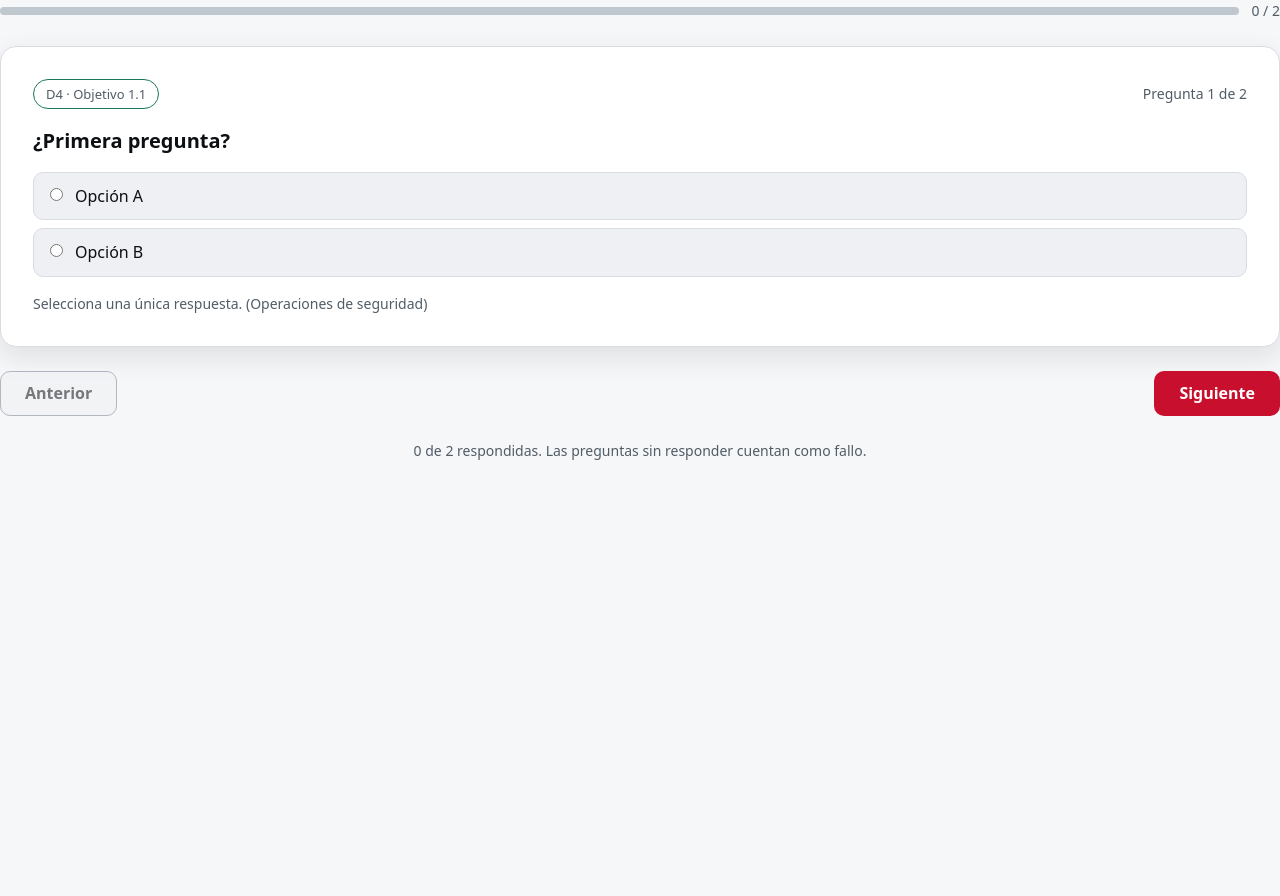
Scenario: DiagnosticPage › permite responder, finalizar y ver los resultados con la ruta
This screenshot has width=1280, height=896.
Expected: the text "¿Primera pregunta?" is shown, x1=33 y1=125 x2=230 y2=156
Click the radio button labelled "Opción A": click(56, 194) x1=50 y1=188 x2=63 y2=201
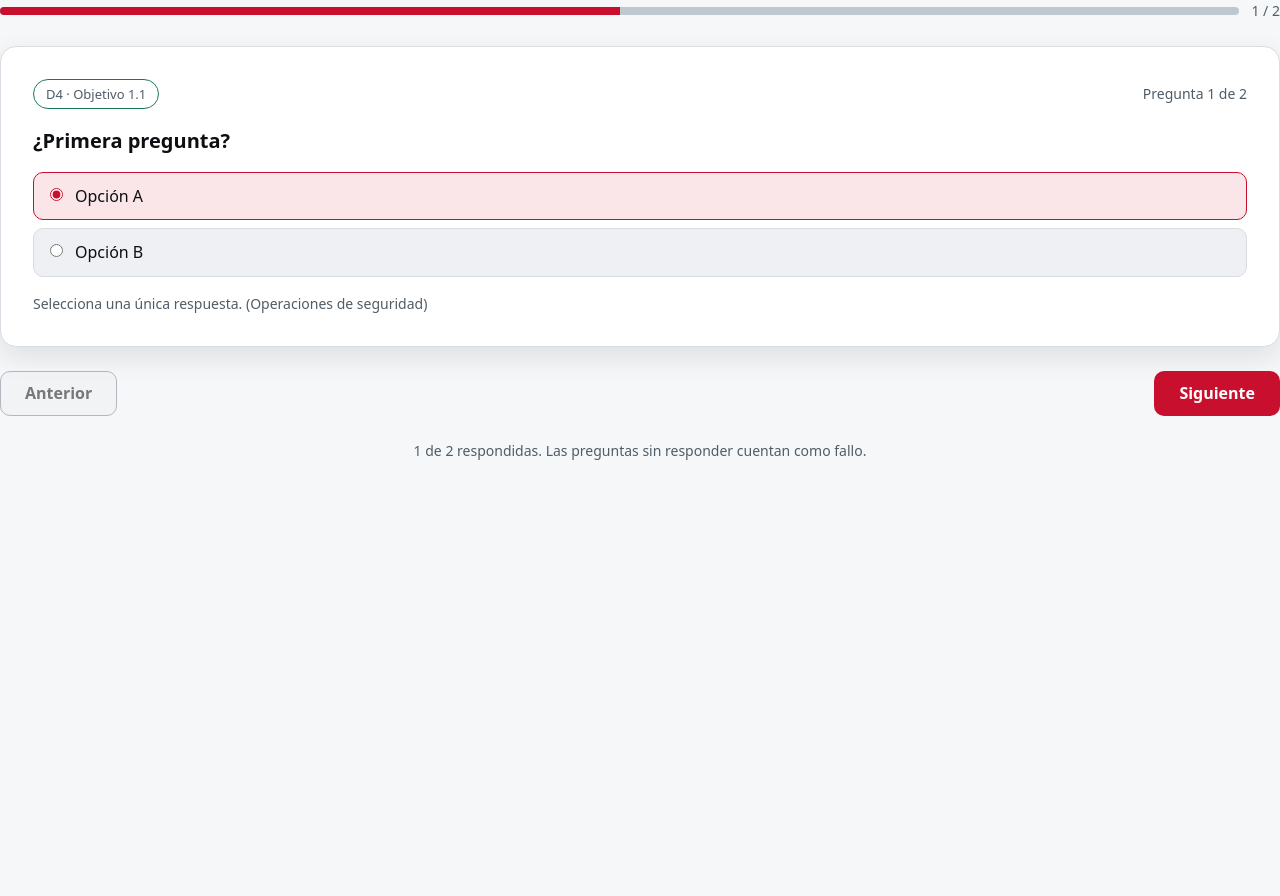
Click the button "Siguiente": click(1217, 394) x1=1154 y1=371 x2=1279 y2=416
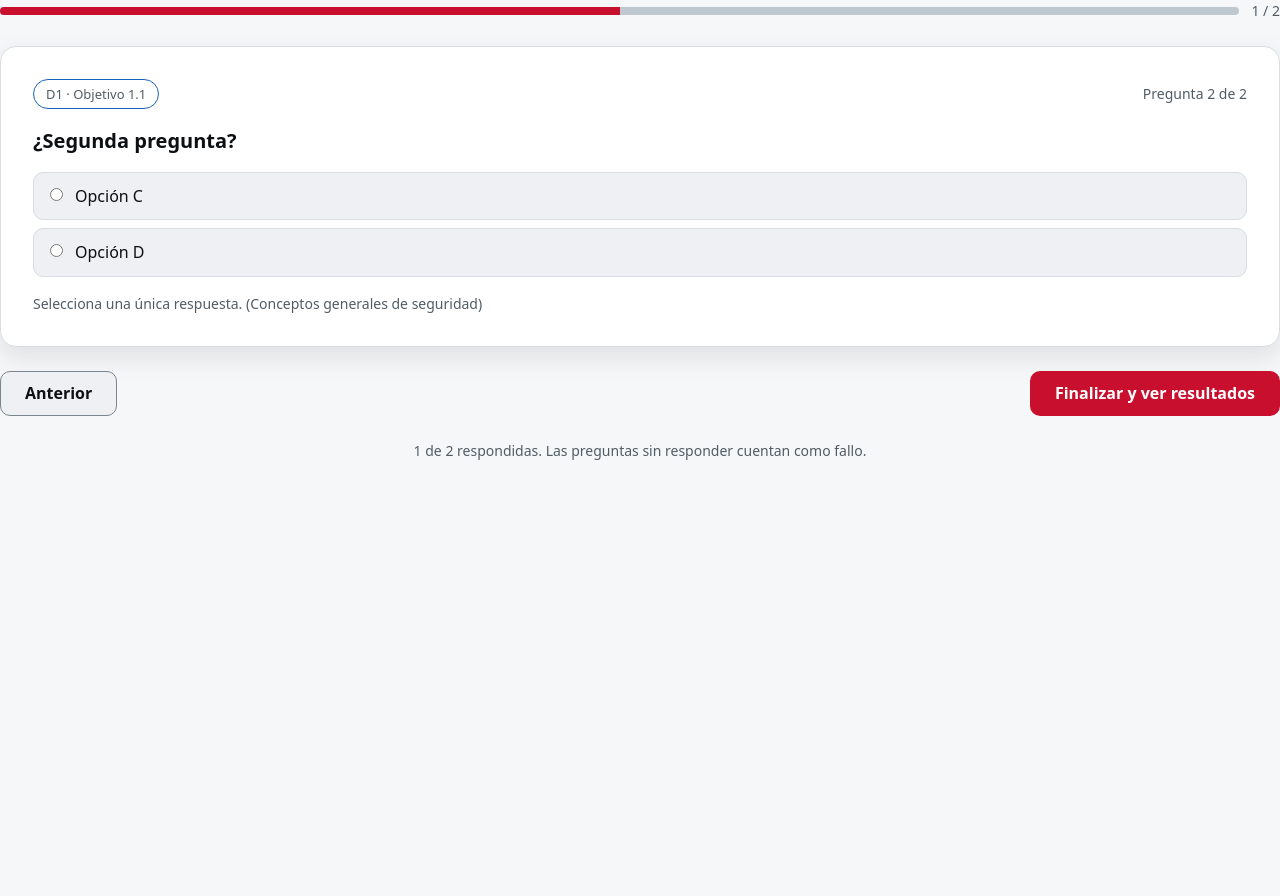
Expected: the text "¿Segunda pregunta?" is shown, x1=33 y1=125 x2=237 y2=156
Click the radio button labelled "Opción C": click(56, 194) x1=50 y1=188 x2=63 y2=201
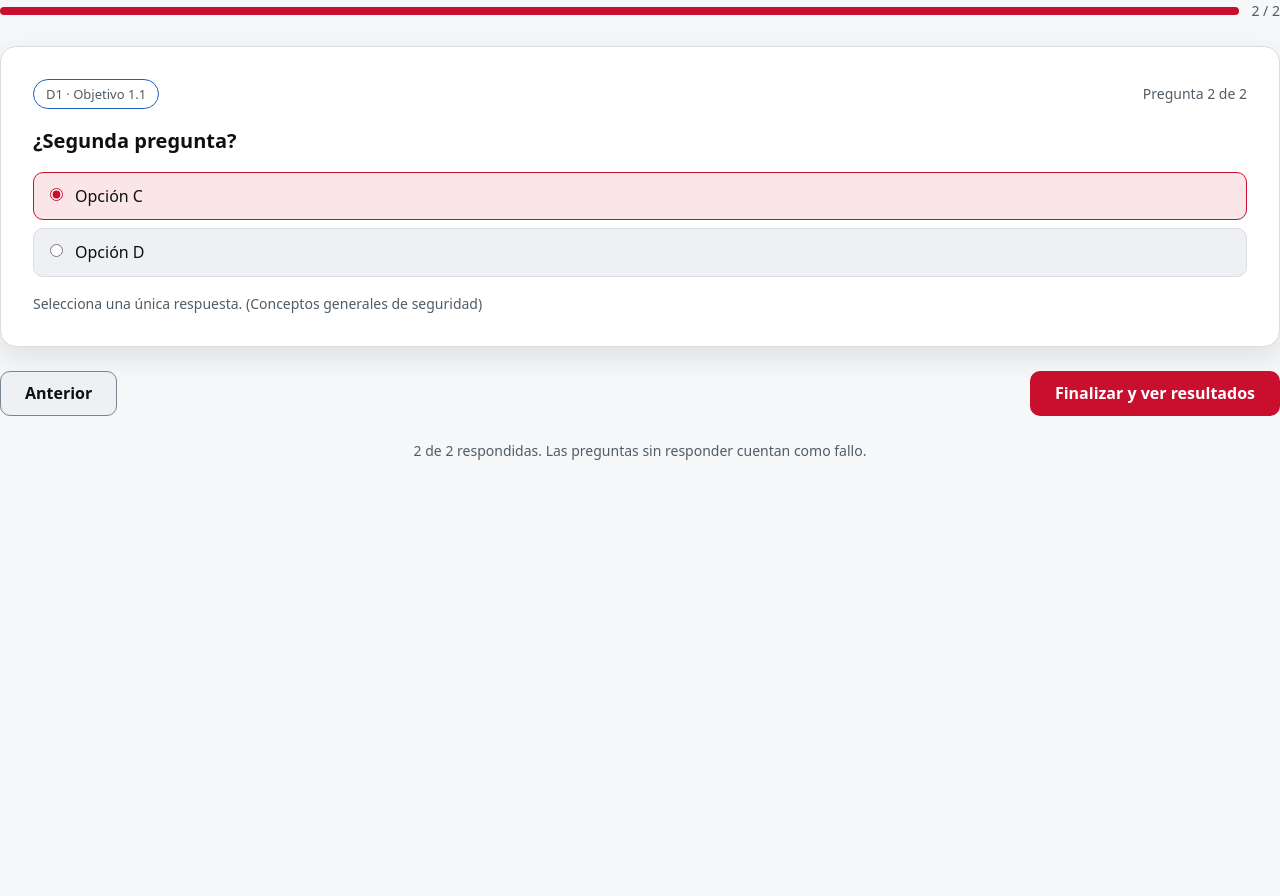
Click the button "Finalizar y ver resultados": click(1155, 394) x1=1030 y1=371 x2=1279 y2=416
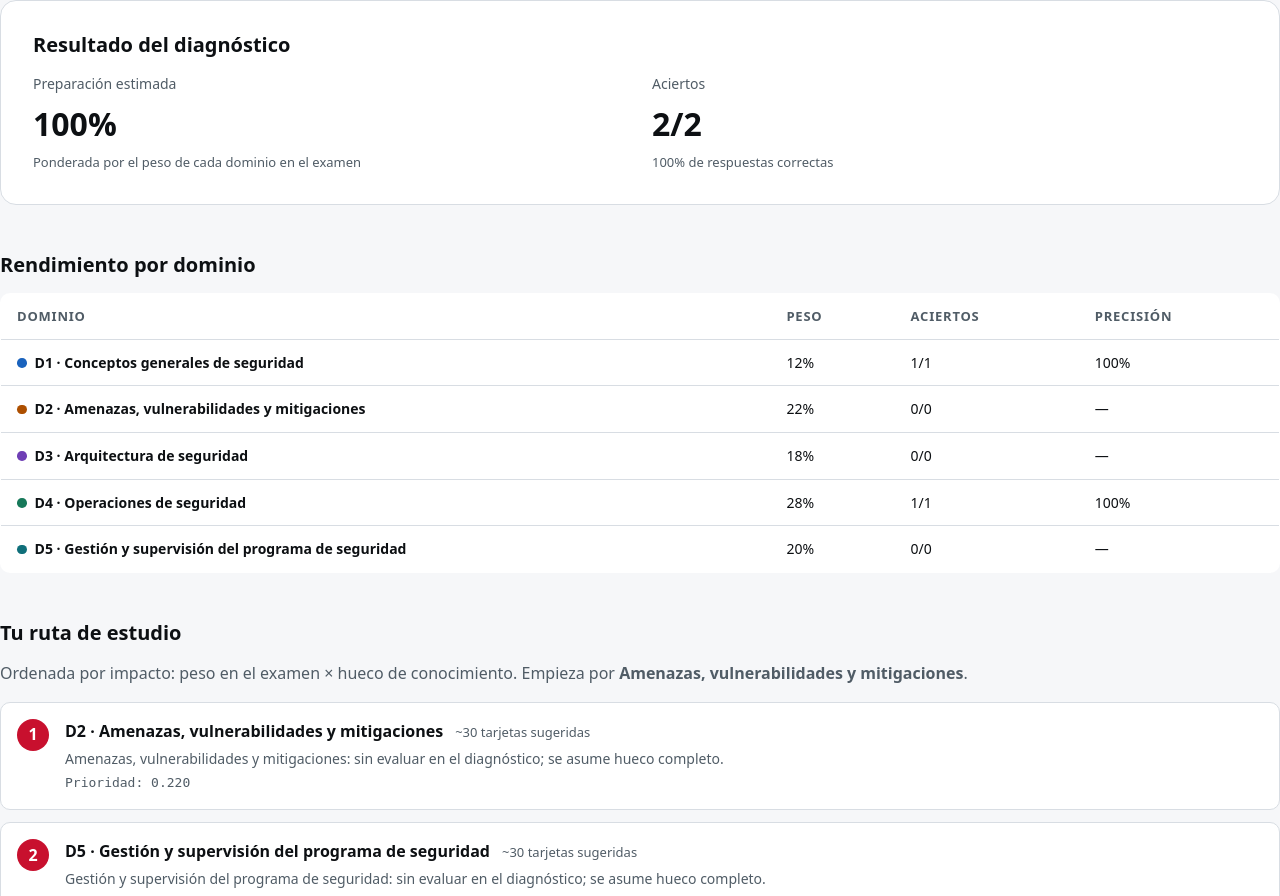
Expected: the heading "Resultado del diagnóstico" is shown, x1=33 y1=31 x2=290 y2=58
Expected: the heading "Tu ruta de estudio" is shown, x1=0 y1=619 x2=182 y2=646
